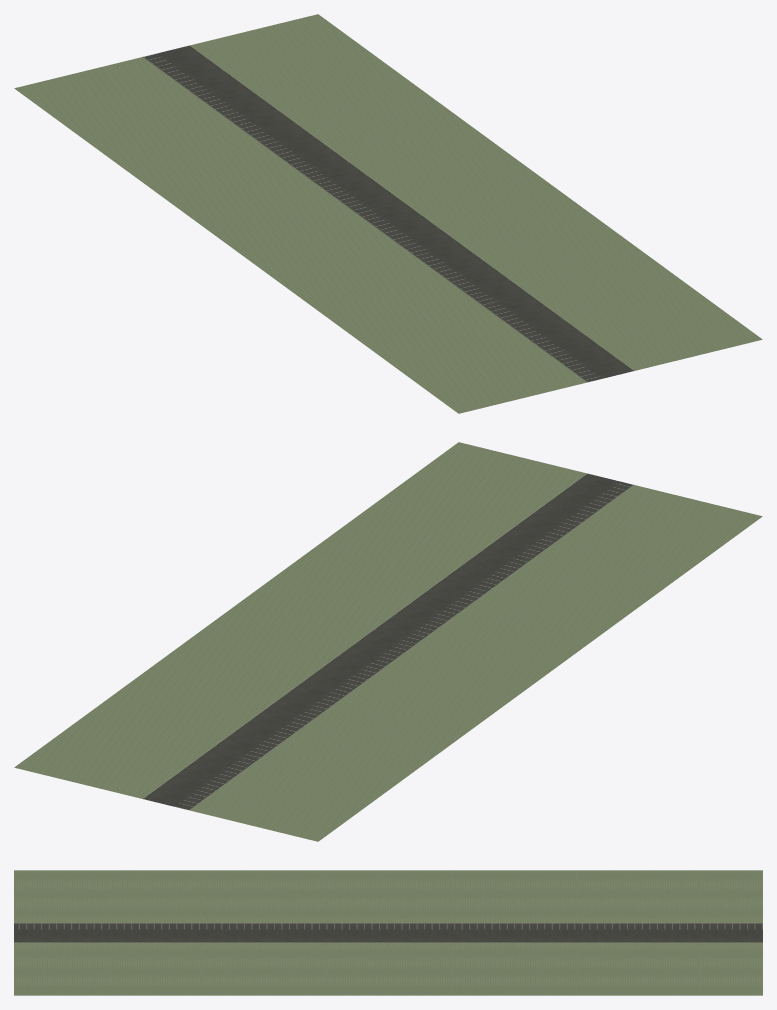
File: ParkingLot.obj
The picture shows the model from 3 angles, top to bottom: view 1: azimuth 30°, elevation 25°; view 2: azimuth 150°, elevation 25°; view 3: azimuth 270°, elevation 25°; orthographic projection. The views are drawn at different scales.
Visible parts, largest first — view 1: ParkingLot; view 2: ParkingLot; view 3: ParkingLot.
Boxes of the visible parts, x1,y1,x2,y2 form: ParkingLot: (14, 14, 762, 413); ParkingLot: (14, 442, 762, 841); ParkingLot: (14, 870, 762, 995).
Bounding box in the file's own units: 118 × 0.1 × 299.
